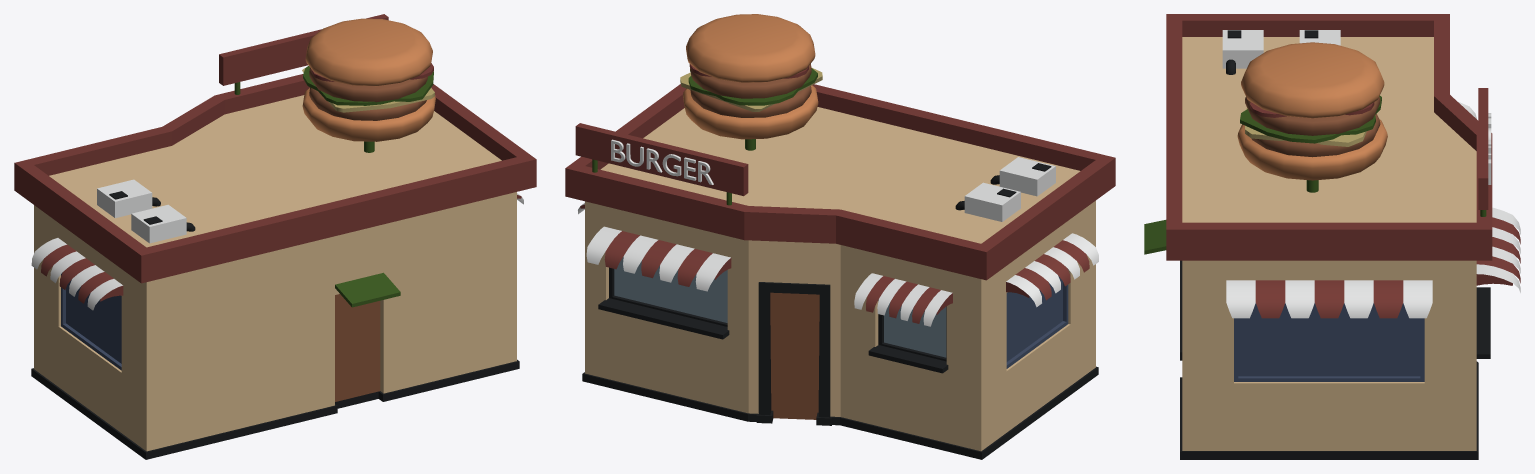
File: burger.fbx
3 views of the same model, side by side, from view 1: azimuth 30°, elevation 25°; view 2: azimuth 150°, elevation 25°; view 3: azimuth 270°, elevation 25° (orthographic). The views are drawn at different scales.
Visible parts, largest first — view 1: Burger_Place_1; view 2: Burger_Place_1; view 3: Burger_Place_1.
Boxes of the visible parts, box(x1,y1,x2,y2) form: Burger_Place_1: box(14, 14, 536, 459); Burger_Place_1: box(565, 14, 1115, 459); Burger_Place_1: box(1144, 14, 1520, 459).
Bounding box in the file's own units: 1095 × 754 × 746.
